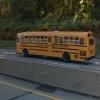Bus: (11, 29, 95, 62)
